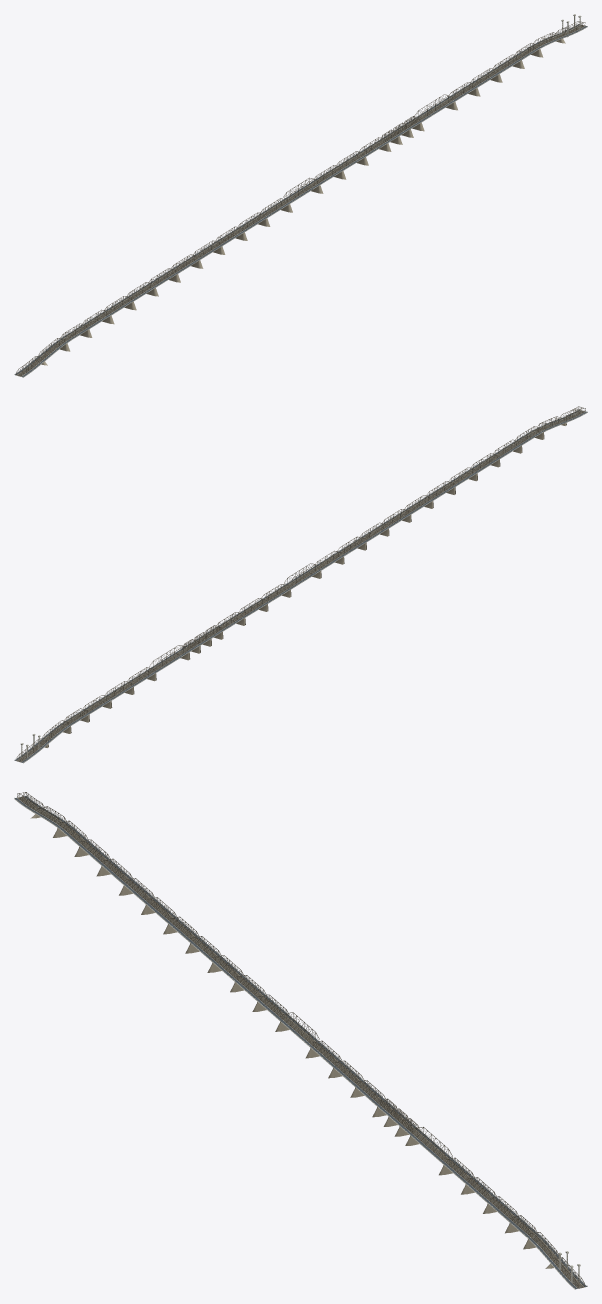
Rendered from pont-victoria-near.glb.
3 views of the same model, one above another, from view 1: azimuth 30°, elevation 25°; view 2: azimuth 210°, elevation 25°; view 3: azimuth 270°, elevation 25° (orthographic). The views are drawn at different scales.
Visible parts, largest first — view 1: pont-victoria-0-iron, pont-victoria-2-iron, pont-victoria-1-iron, pont-victoria-3-iron, pont-victoria-0-asphalt, pont-victoria-2-stone, pont-victoria-1-asphalt, pont-victoria-2-asphalt, pont-victoria-1-stone, pont-victoria-3-asphalt, pont-victoria-3-stone, pont-victoria-0-concrete; view 2: pont-victoria-0-iron, pont-victoria-2-iron, pont-victoria-1-iron, pont-victoria-3-iron, pont-victoria-3-asphalt, pont-victoria-2-asphalt, pont-victoria-1-asphalt, pont-victoria-0-asphalt, pont-victoria-2-stone; view 3: pont-victoria-0-iron, pont-victoria-2-iron, pont-victoria-1-iron, pont-victoria-3-iron, pont-victoria-3-asphalt, pont-victoria-1-asphalt, pont-victoria-2-asphalt, pont-victoria-2-stone, pont-victoria-0-asphalt, pont-victoria-1-stone, pont-victoria-0-stone, pont-victoria-3-stone (+2 smaller).
Boxes of the visible parts, x1,y1,x2,y2 form: pont-victoria-0-iron: (16,22,584,376); pont-victoria-2-iron: (283,94,452,202); pont-victoria-1-iron: (149,198,287,286); pont-victoria-3-iron: (448,21,585,99); pont-victoria-0-asphalt: (15,279,163,377); pont-victoria-2-stone: (300,105,441,193); pont-victoria-1-asphalt: (155,192,303,281); pont-victoria-2-asphalt: (296,104,445,194); pont-victoria-1-stone: (161,193,300,282); pont-victoria-3-asphalt: (437,25,585,106); pont-victoria-3-stone: (442,26,581,110); pont-victoria-0-concrete: (14,14,581,377); pont-victoria-0-iron: (17,406,585,762); pont-victoria-2-iron: (149,563,318,671); pont-victoria-1-iron: (314,481,453,569); pont-victoria-3-iron: (16,667,153,761); pont-victoria-3-asphalt: (15,665,164,762); pont-victoria-2-asphalt: (157,577,305,666); pont-victoria-1-asphalt: (298,489,445,579); pont-victoria-0-asphalt: (438,410,587,491); pont-victoria-2-stone: (161,578,300,664); pont-victoria-0-iron: (17,792,583,1288); pont-victoria-2-iron: (282,1012,452,1162); pont-victoria-1-iron: (148,897,289,1019); pont-victoria-3-iron: (446,1157,584,1288); pont-victoria-3-asphalt: (435,1153,586,1288); pont-victoria-1-asphalt: (155,908,305,1032); pont-victoria-2-asphalt: (295,1031,446,1155); pont-victoria-2-stone: (300,1032,442,1154); pont-victoria-0-asphalt: (15,796,165,910); pont-victoria-1-stone: (160,909,301,1032); pont-victoria-0-stone: (21,797,161,914); pont-victoria-3-stone: (439,1155,581,1287).
Size of the model in its own units: 1814 by 35.07 by 891.
